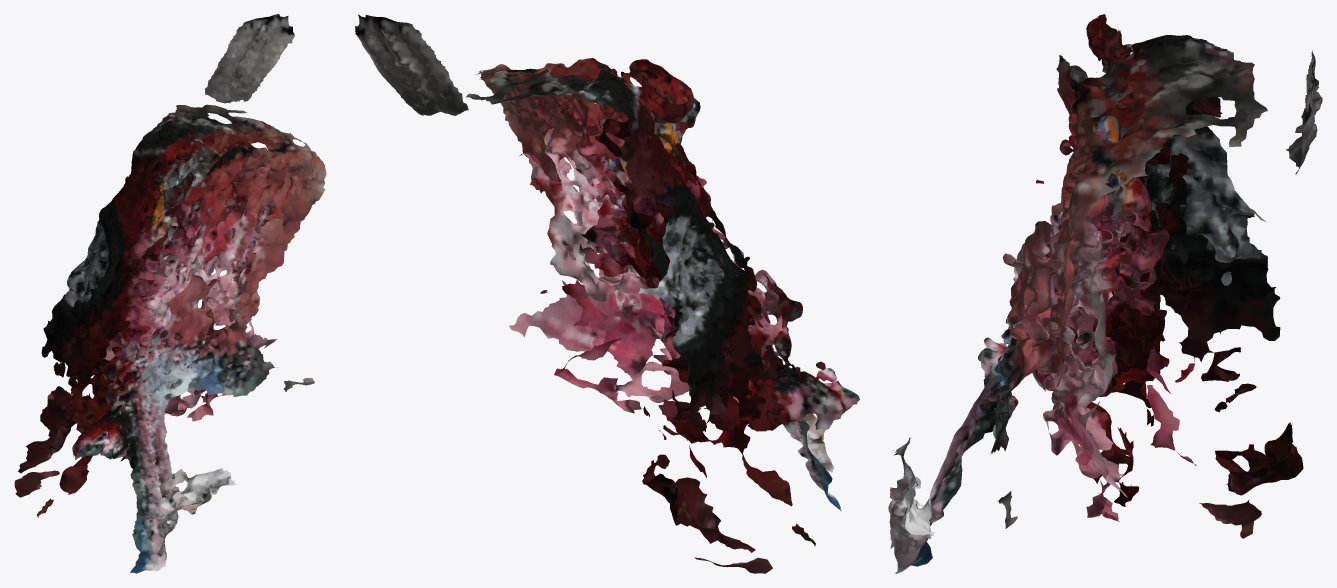
The model's file is rtabmap_mesh.obj.
3 renders of one model, left to right at view 1: azimuth 30°, elevation 25°; view 2: azimuth 150°, elevation 25°; view 3: azimuth 270°, elevation 25°, orthographic. The views are drawn at different scales.
Bounding box in the file's own units: 2.08 × 2.65 × 1.48.
